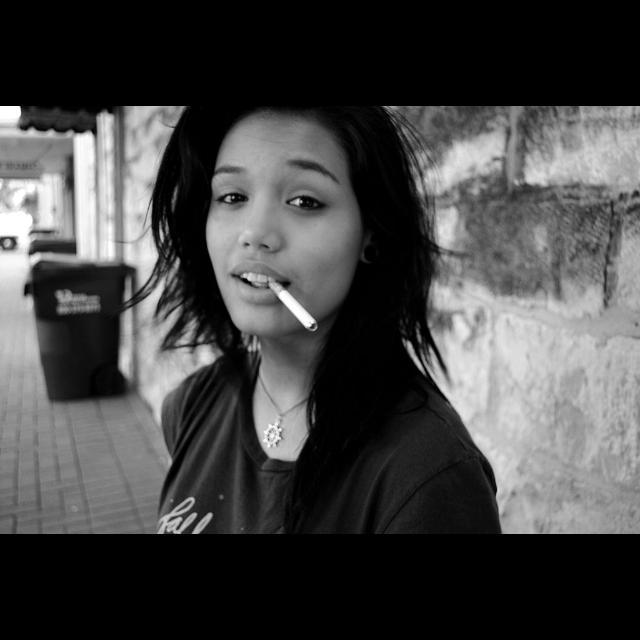rokok: (266, 274, 322, 332)
